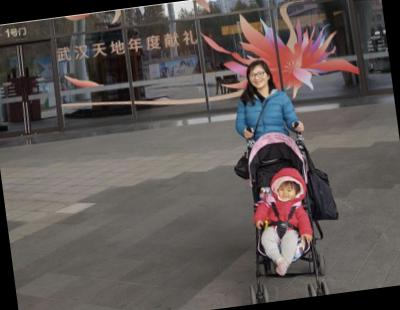without_mask: (248, 67, 269, 87), (277, 180, 295, 200)
